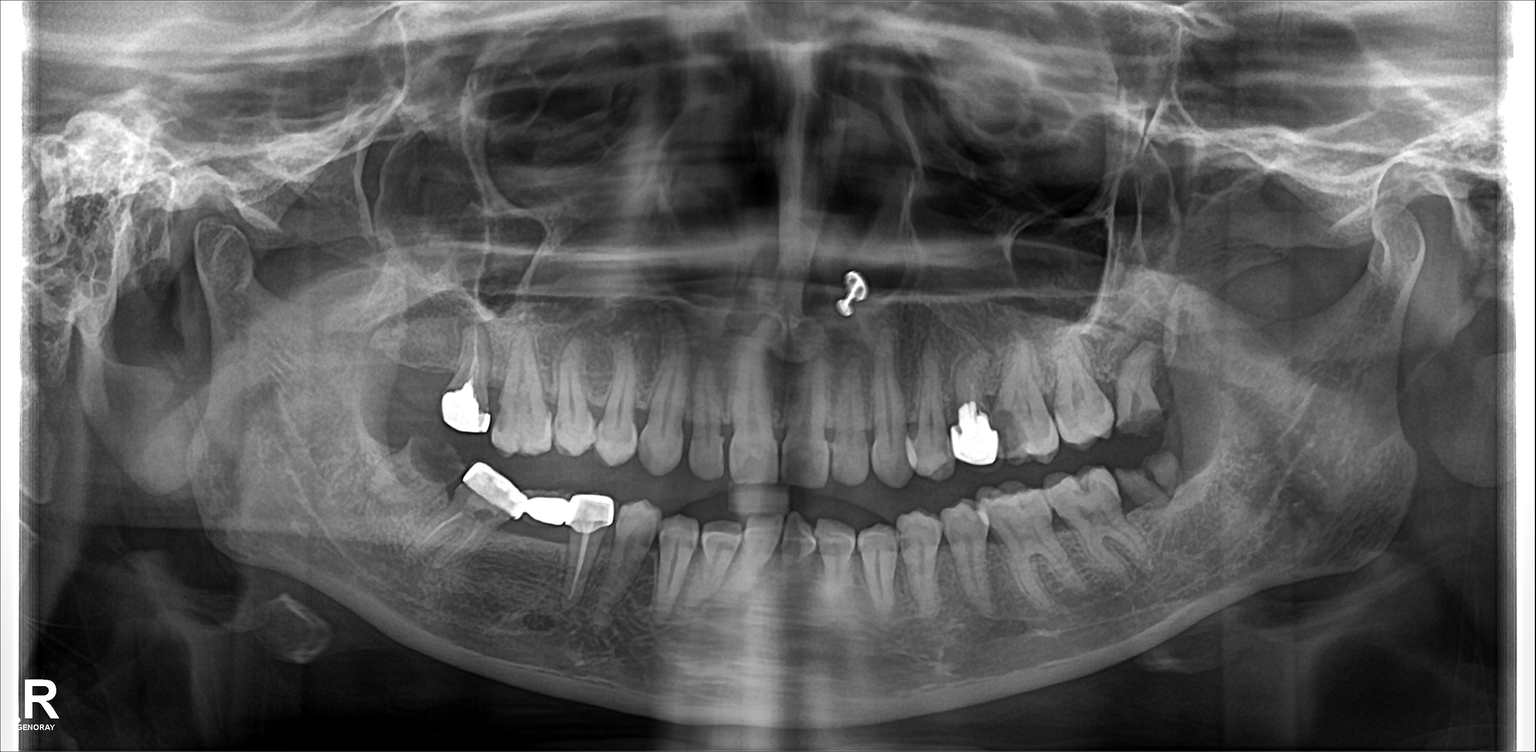Endodontically Treated Tooth: (419, 469, 507, 566), (944, 350, 997, 469), (570, 488, 615, 608), (449, 324, 486, 428)
Impacted Third Molar: (1127, 458, 1201, 518)
Missing Tooth: (402, 328, 451, 431)
Retained Root: (1112, 352, 1170, 431), (380, 449, 460, 496)
